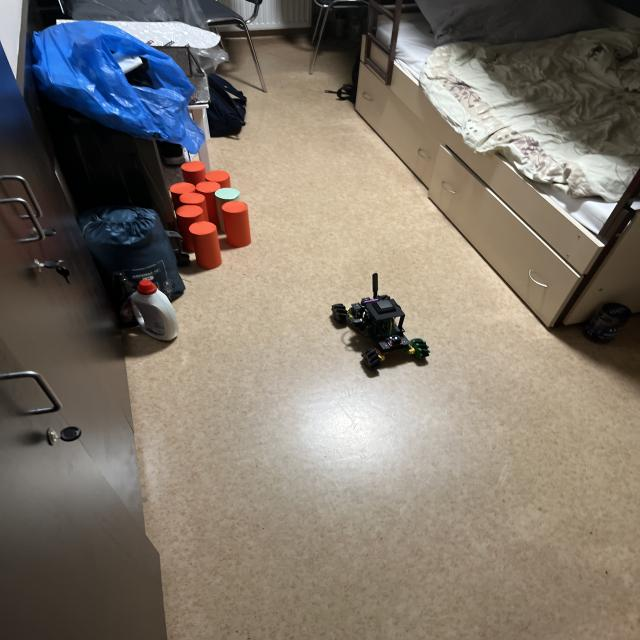robot: (331, 273, 429, 369)
